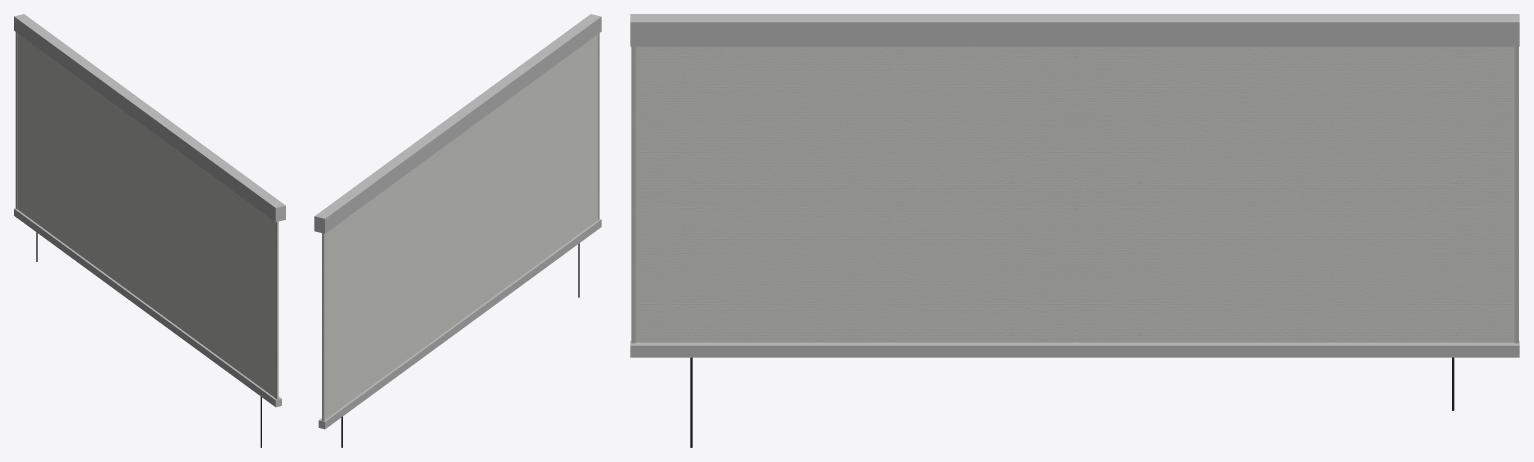
The model's file is window screen white2.FBX.
3 renders of one model, left to right at view 1: azimuth 30°, elevation 25°; view 2: azimuth 150°, elevation 25°; view 3: azimuth 270°, elevation 25°, orthographic. The views are drawn at different scales.
Visible parts, largest first — view 1: window screen white2; view 2: window screen white2; view 3: window screen white2.
Part boxes in pixels (bbox=[...]): window screen white2: bbox=[14, 14, 285, 447]; window screen white2: bbox=[314, 14, 601, 447]; window screen white2: bbox=[630, 14, 1519, 447].
Size of the model in its own units: 2.69 by 120 by 64.28.
Materials: 1 (1 with a texture image).
